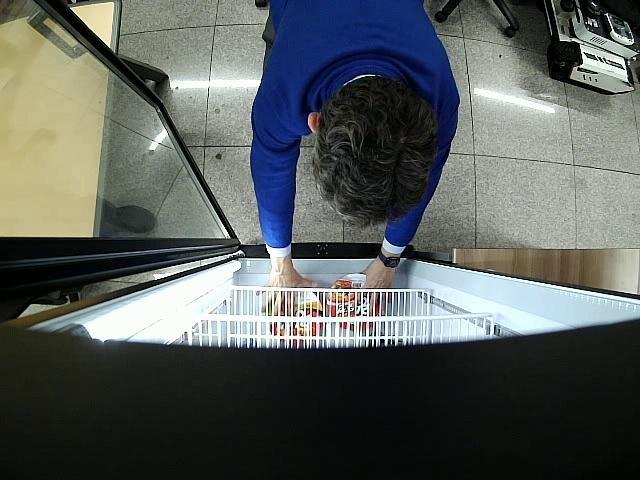10_wangTtukkeong: (268, 289, 324, 345), (326, 274, 379, 331)
